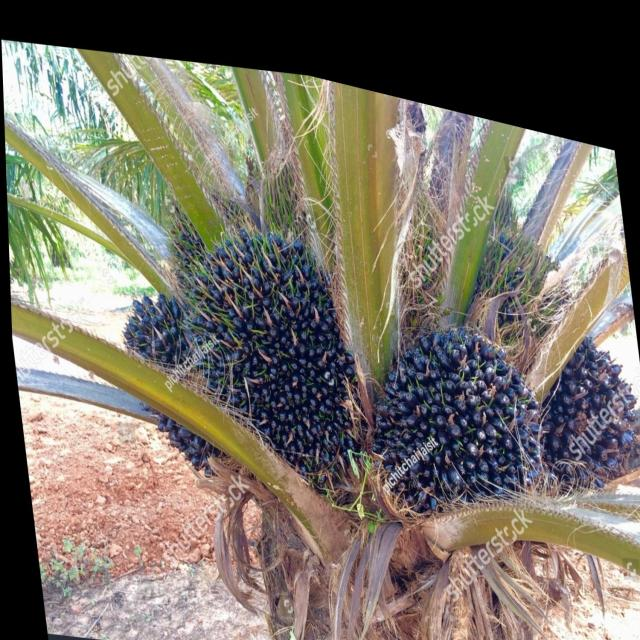Unripe: (172, 190, 370, 500), (353, 274, 553, 530), (524, 286, 640, 487), (112, 272, 208, 474)
